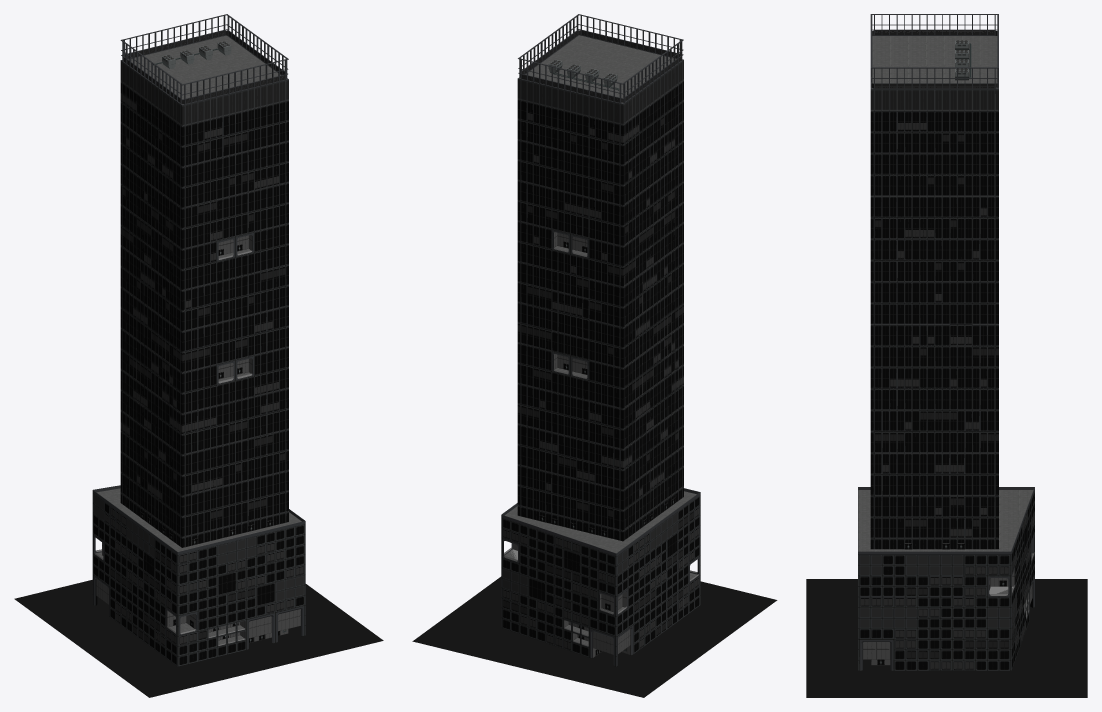
3 views of the same model, side by side, from view 1: azimuth 30°, elevation 25°; view 2: azimuth 150°, elevation 25°; view 3: azimuth 270°, elevation 25° (orthographic). The views are drawn at different scales.
Visible parts, largest first — view 1: model_0.001, model_1.001; view 2: model_0.001, model_1.001; view 3: model_0.001, model_1.001.
Part boxes in pixels (x1,y1,x2,y2): model_0.001: (92,14,305,666); model_1.001: (14,580,383,697); model_0.001: (501,14,700,666); model_1.001: (412,576,777,697); model_0.001: (858,14,1034,670); model_1.001: (806,579,1087,697).
Size of the model in its own units: 1.97 by 4.68 by 1.97.
2 materials, 1 textured.
